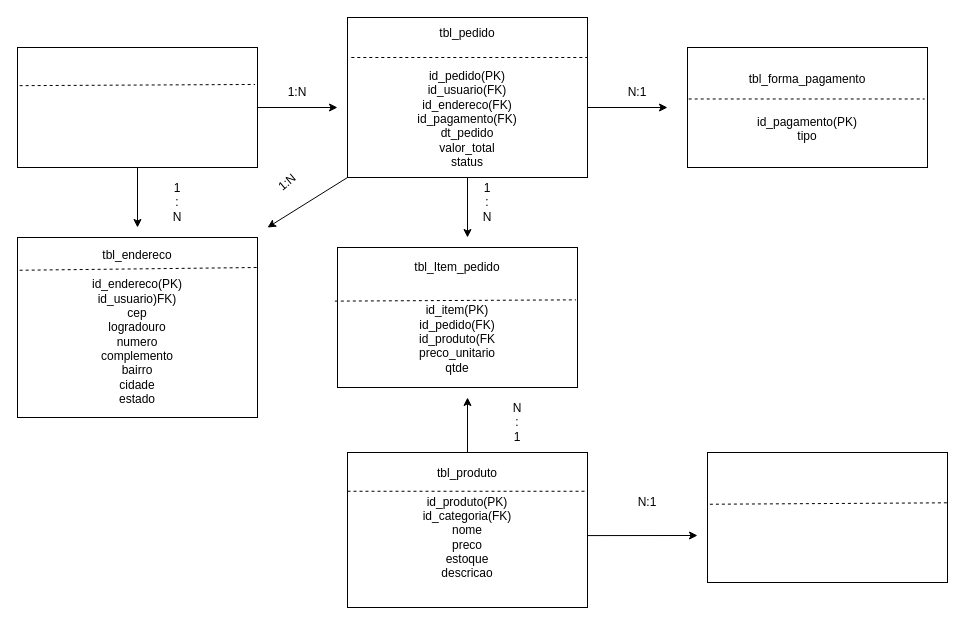
Some shapes in this 967 by 625 pixel diagram are drawn without their labels. The shapes that lost their labels are listed below. From the top down, each one's box as (x1, y1, x2, y2) in pixels, then its label:
(16, 46, 258, 168): tbl_usua rio id_usua rio(PK) nome email senha
(706, 452, 948, 582): tbl_categoria id_categoria(PK) nome
